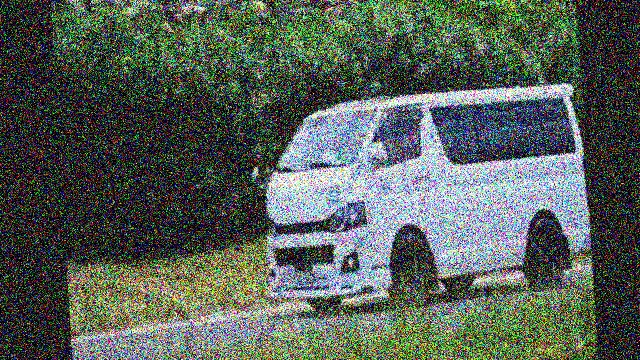van: (253, 72, 594, 328)
